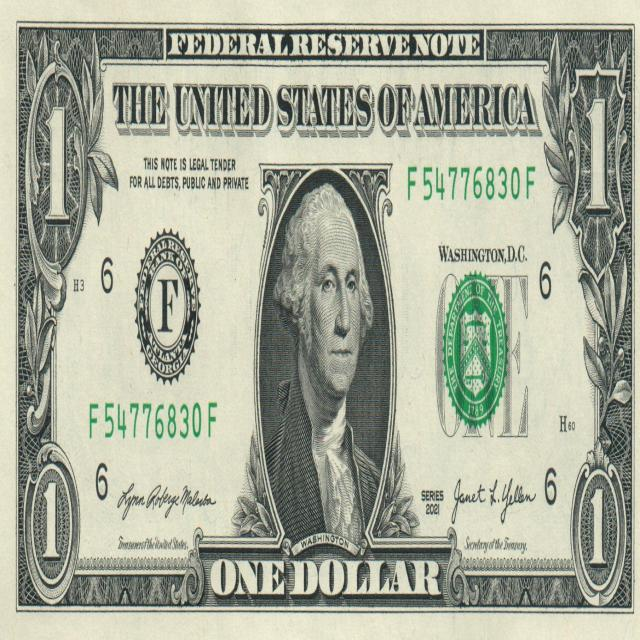SerialNumber: (408, 167, 535, 200), (90, 403, 203, 439)
